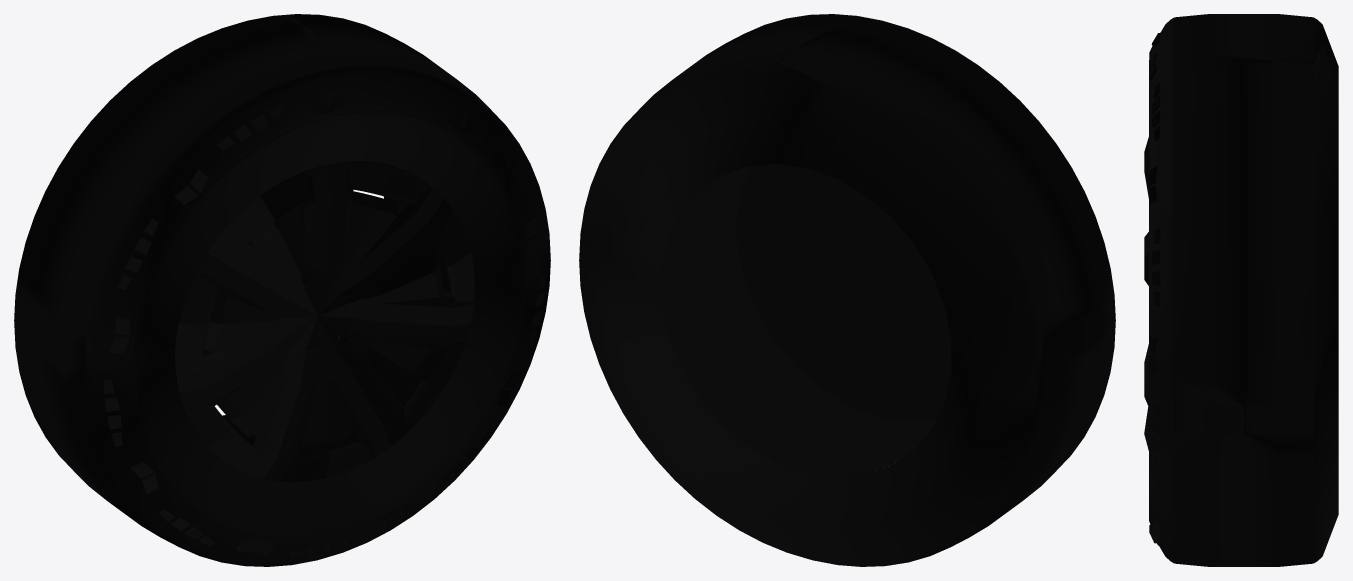
Rendered from Wheel_Cybertruck_Standard.glb.
3 views of the same model, side by side, from view 1: azimuth 30°, elevation 25°; view 2: azimuth 150°, elevation 25°; view 3: azimuth 270°, elevation 25° (orthographic).
Parts seen in each view (by area): view 1: Wheel_Cybertruck_Standard2; view 2: Wheel_Cybertruck_Standard2; view 3: Wheel_Cybertruck_Standard2.
Part boxes in pixels (x1,y1,x2,y2): Wheel_Cybertruck_Standard2: [14, 14, 550, 566]; Wheel_Cybertruck_Standard2: [579, 14, 1115, 566]; Wheel_Cybertruck_Standard2: [1144, 14, 1338, 566].
Size of the model in its own units: 0.8713 by 0.8713 by 0.3065.
2 materials, 2 textured.
